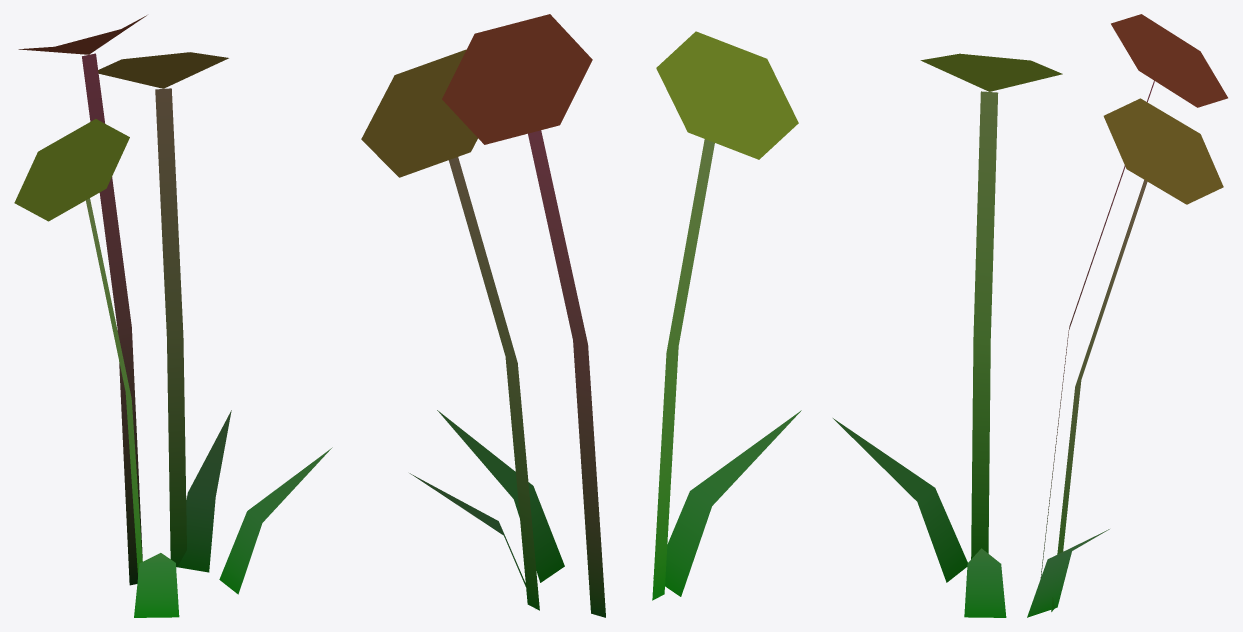
File: basic-flower.glb
3 renders of one model, left to right at view 1: azimuth 30°, elevation 25°; view 2: azimuth 150°, elevation 25°; view 3: azimuth 270°, elevation 25°, orthographic. The views are drawn at different scales.
Parts seen in each view (by area): view 1: basic-flower_LOD0; view 2: basic-flower_LOD0; view 3: basic-flower_LOD0.
Boxes of the visible parts, bbox=[...] form: basic-flower_LOD0: bbox=[14, 15, 332, 617]; basic-flower_LOD0: bbox=[361, 14, 801, 617]; basic-flower_LOD0: bbox=[833, 14, 1227, 617].
Size of what is drawn, in the model's own units: 0.3248 by 0.563 by 0.3588.
